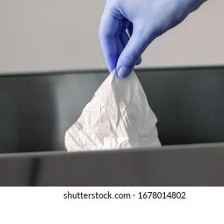tissue: (59, 61, 166, 157)
